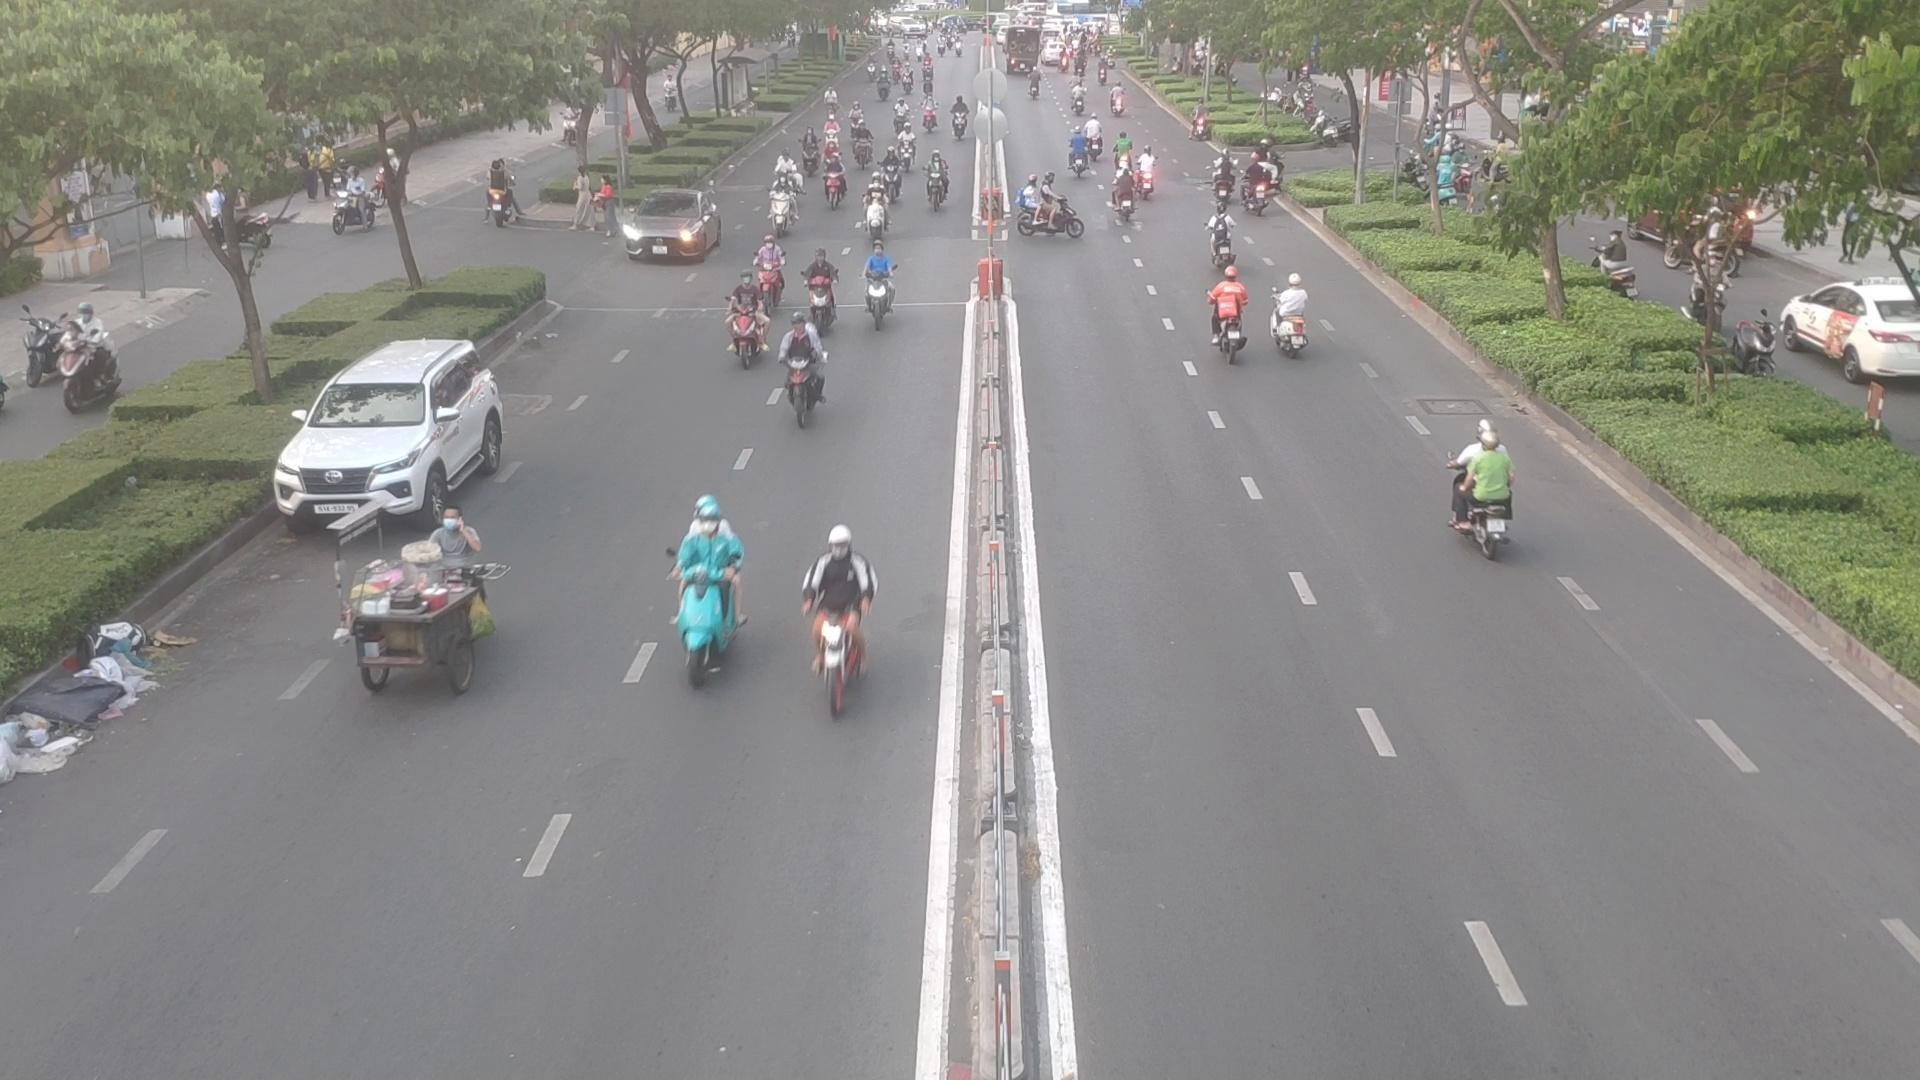car: (277, 334, 518, 535), (609, 194, 728, 266)
motorbike: (655, 505, 749, 678), (804, 524, 884, 713), (1437, 430, 1523, 554), (773, 314, 839, 426), (715, 273, 769, 368), (1211, 274, 1258, 363), (853, 249, 902, 334), (1017, 193, 1087, 247), (1271, 273, 1313, 357), (806, 247, 841, 338), (1207, 214, 1247, 272), (754, 236, 786, 309), (769, 170, 800, 237), (866, 179, 894, 247), (1106, 170, 1139, 225), (916, 153, 948, 207), (1207, 154, 1236, 208), (1130, 149, 1160, 200), (1244, 160, 1273, 211), (822, 160, 851, 207), (874, 152, 902, 189)
